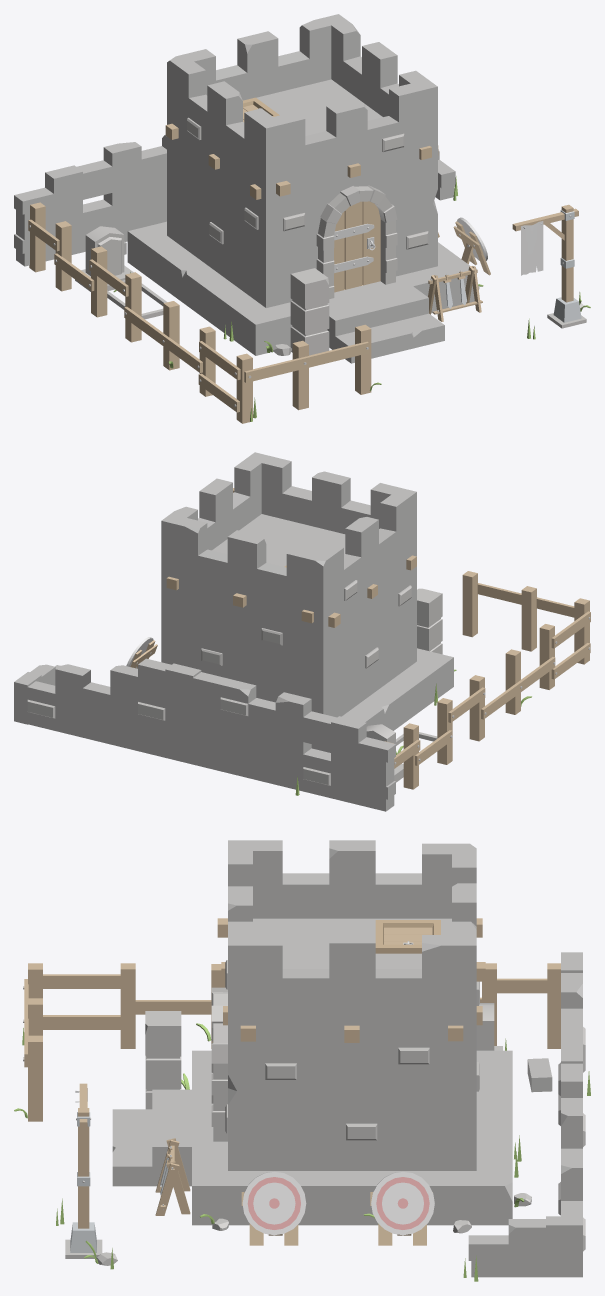
The model's file is Military_Mesh.fbx.
3 renders of one model, top to bottom at view 1: azimuth 30°, elevation 25°; view 2: azimuth 150°, elevation 25°; view 3: azimuth 270°, elevation 25°, orthographic. The views are drawn at different scales.
Visible parts, largest first — view 1: Military; view 2: Military; view 3: Military.
Part boxes in pixels (left/top/right/bottom): Military: left=14, top=14, right=590, bottom=423; Military: left=14, top=452, right=590, bottom=811; Military: left=14, top=840, right=590, bottom=1281.
Size of the model in its own units: 767 by 392 by 762.
